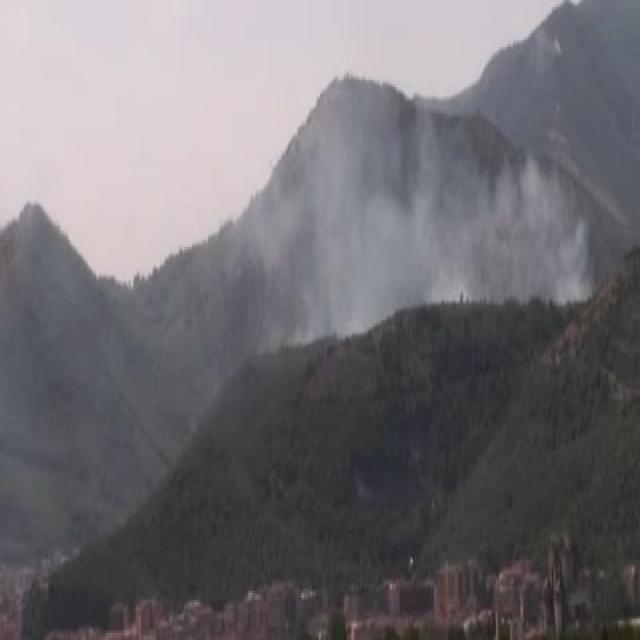smoke: (314, 165, 588, 304)
